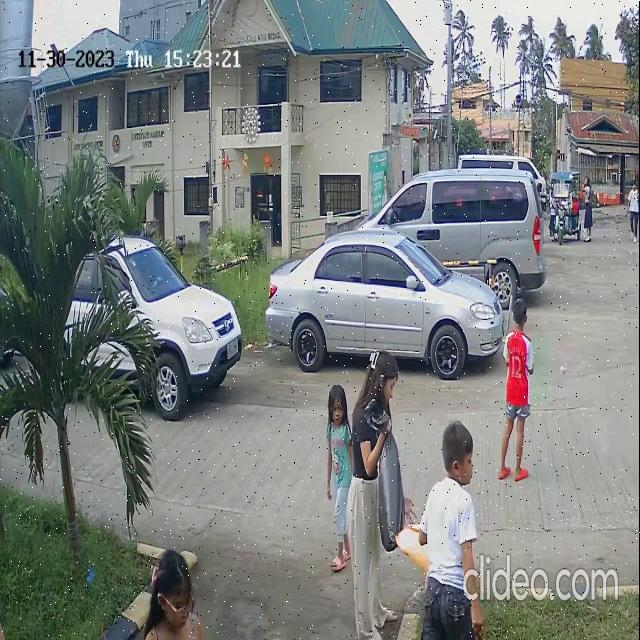garbage_dumping: (368, 404, 406, 554)
